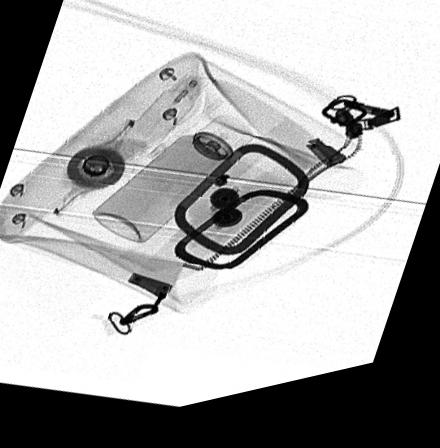Sprayer: (92, 123, 252, 248)
